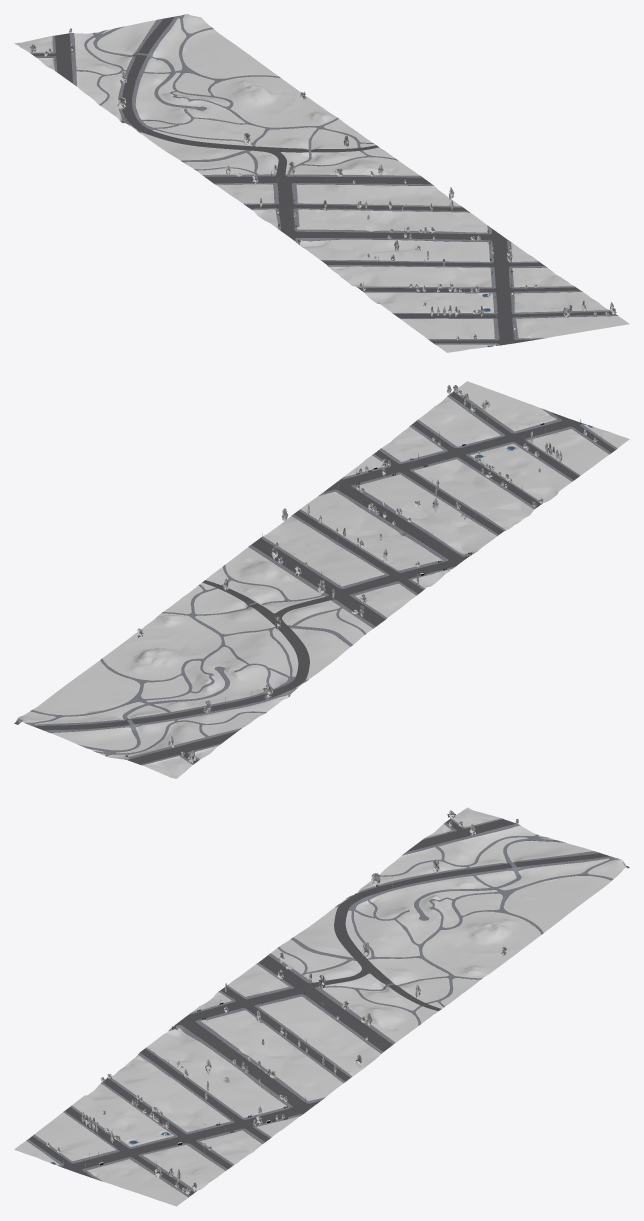
3 views of the same model, one above another, from view 1: azimuth 30°, elevation 25°; view 2: azimuth 150°, elevation 25°; view 3: azimuth 330°, elevation 25° (orthographic). The views are drawn at different scales.
Visible parts, largest first — view 1: geopipeinodeyPkAcyU9, geopipeinodeBNCDY8mR, geopipeinodefogZxHOS, geopipeinodeLd_YEYh2, geopipeinodevL20hkH0, geopipeinodeQ8EFt82V, geopipeinodeui0k3WD7, geopipeinodebveWF6tl, geopipeinodepnXHtywz, geopipeinodeu3MGMr9b, geopipeinodejkp5-Ber, geopipeinode-xJVAptj; view 2: geopipeinodeBNCDY8mR, geopipeinodeyPkAcyU9, geopipeinodefogZxHOS, geopipeinodeLd_YEYh2, geopipeinodevL20hkH0, geopipeinodeui0k3WD7, geopipeinodeQ8EFt82V, geopipeinodepnXHtywz, geopipeinodebveWF6tl, geopipeinodeu3MGMr9b, geopipeinodejkp5-Ber, geopipeinode-xJVAptj; view 3: geopipeinodeyPkAcyU9, geopipeinodeBNCDY8mR, geopipeinodefogZxHOS, geopipeinodeLd_YEYh2, geopipeinodevL20hkH0, geopipeinodeui0k3WD7, geopipeinodeQ8EFt82V, geopipeinodebveWF6tl, geopipeinodepnXHtywz, geopipeinodejkp5-Ber, geopipeinodeu3MGMr9b, geopipeinode-xJVAptj.
Part boxes in pixels (bbox=[...]): geopipeinodeyPkAcyU9: bbox=[14, 14, 300, 121]; geopipeinodeBNCDY8mR: bbox=[123, 95, 412, 195]; geopipeinodefogZxHOS: bbox=[339, 249, 629, 352]; geopipeinodeLd_YEYh2: bbox=[231, 171, 521, 275]; geopipeinodevL20hkH0: bbox=[245, 177, 508, 265]; geopipeinodeQ8EFt82V: bbox=[358, 251, 615, 345]; geopipeinodeui0k3WD7: bbox=[30, 14, 280, 122]; geopipeinodebveWF6tl: bbox=[243, 175, 511, 266]; geopipeinodepnXHtywz: bbox=[356, 251, 618, 345]; geopipeinodeu3MGMr9b: bbox=[122, 104, 398, 188]; geopipeinodejkp5-Ber: bbox=[127, 118, 378, 188]; geopipeinode-xJVAptj: bbox=[31, 16, 174, 119]; geopipeinodeBNCDY8mR: bbox=[127, 553, 402, 695]; geopipeinodeyPkAcyU9: bbox=[17, 640, 288, 778]; geopipeinodefogZxHOS: bbox=[354, 381, 629, 523]; geopipeinodeLd_YEYh2: bbox=[241, 469, 515, 605]; geopipeinodevL20hkH0: bbox=[251, 473, 503, 594]; geopipeinodeui0k3WD7: bbox=[15, 658, 289, 765]; geopipeinodeQ8EFt82V: bbox=[366, 391, 615, 507]; geopipeinodepnXHtywz: bbox=[363, 391, 617, 509]; geopipeinodebveWF6tl: bbox=[248, 472, 505, 595]; geopipeinodeu3MGMr9b: bbox=[161, 563, 387, 695]; geopipeinodejkp5-Ber: bbox=[202, 567, 385, 691]; geopipeinode-xJVAptj: bbox=[14, 689, 285, 764]; geopipeinodeyPkAcyU9: bbox=[357, 807, 626, 953]; geopipeinodeBNCDY8mR: bbox=[241, 898, 516, 1037]; geopipeinodefogZxHOS: bbox=[14, 1064, 289, 1206]; geopipeinodeLd_YEYh2: bbox=[127, 975, 402, 1123]; geopipeinodevL20hkH0: bbox=[140, 987, 392, 1119]; geopipeinodeui0k3WD7: bbox=[355, 818, 627, 934]; geopipeinodeQ8EFt82V: bbox=[28, 1078, 275, 1195]; geopipeinodebveWF6tl: bbox=[138, 985, 395, 1120]; geopipeinodepnXHtywz: bbox=[26, 1078, 280, 1197]; geopipeinodejkp5-Ber: bbox=[259, 894, 441, 1019]; geopipeinodeu3MGMr9b: bbox=[256, 894, 482, 1025]; geopipeinode-xJVAptj: bbox=[358, 819, 629, 896].
Bounding box in the file's own units: 263 × 1145 × 33.11.
